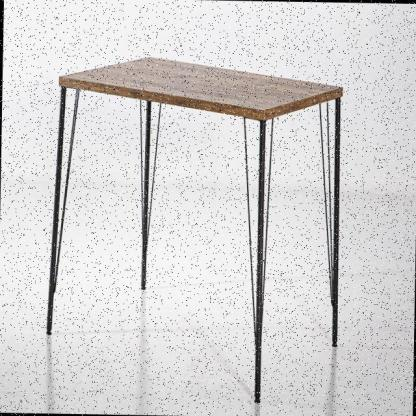Table: (25, 30, 357, 411)
